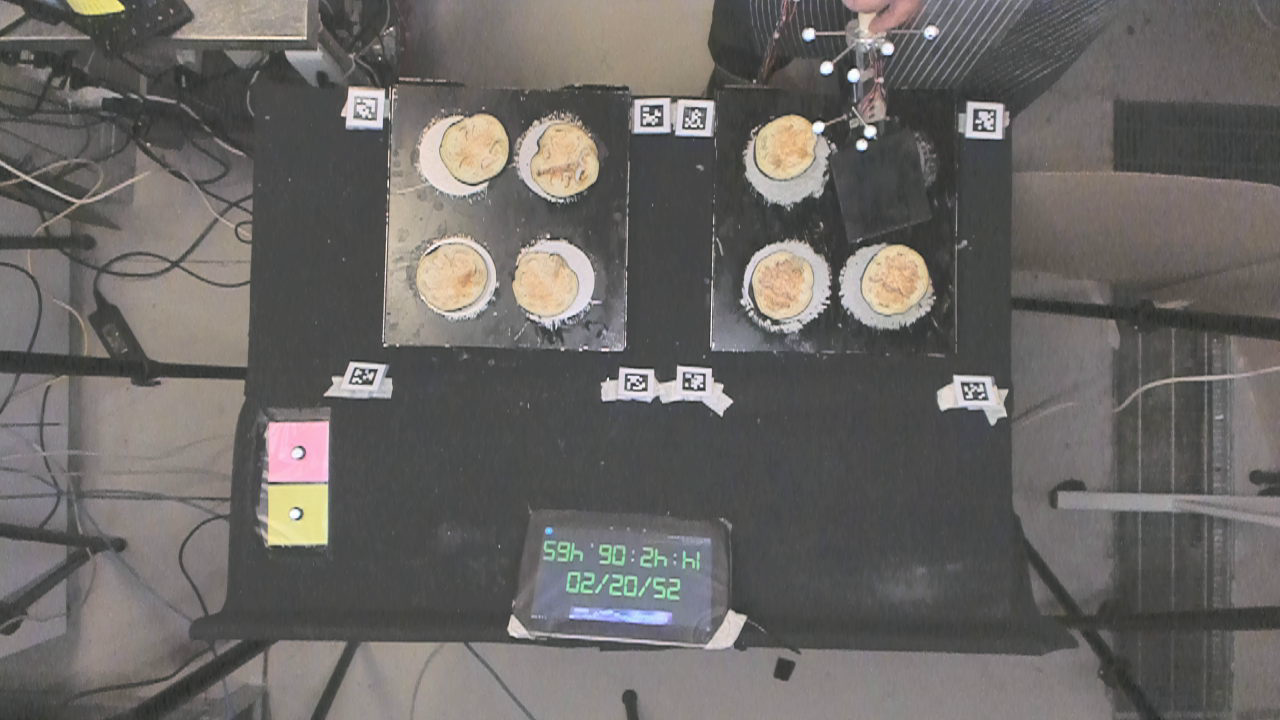eggplant: (849, 239, 933, 319), (529, 118, 603, 197), (746, 245, 818, 324), (410, 246, 490, 311), (441, 110, 507, 185), (513, 250, 579, 317), (753, 111, 820, 177)
marker: (267, 420, 329, 482)
